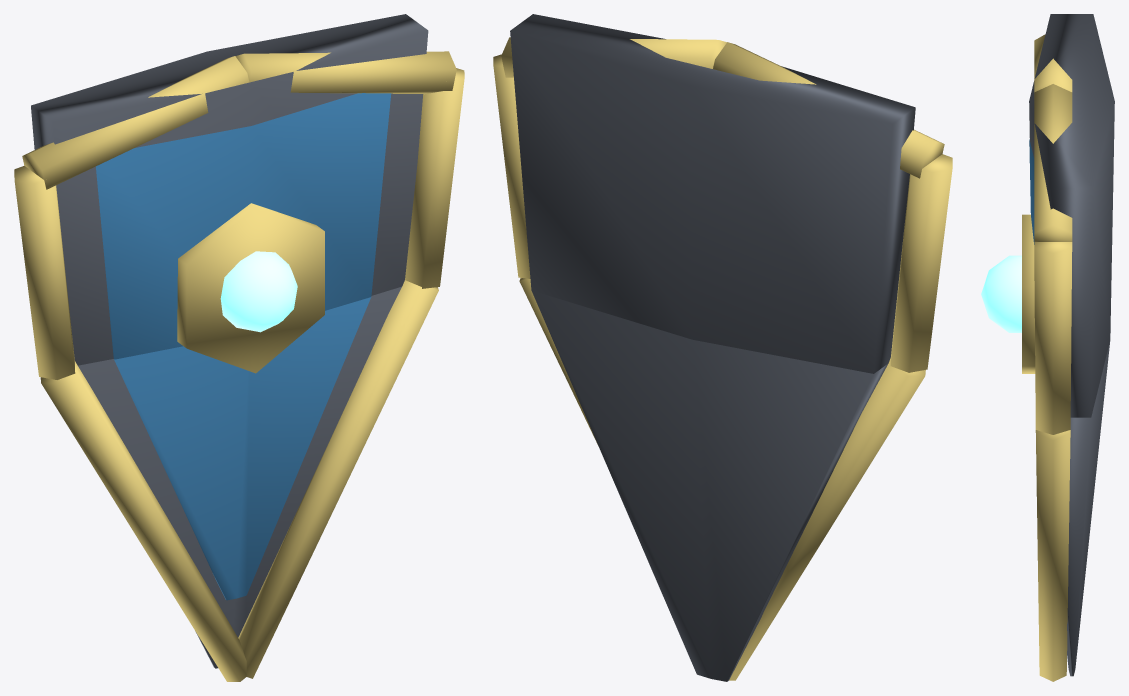
Rendered from dragon_shield.glb.
The picture shows the model from 3 angles, left to right: view 1: azimuth 30°, elevation 25°; view 2: azimuth 150°, elevation 25°; view 3: azimuth 270°, elevation 25°; orthographic projection. The views are drawn at different scales.
Parts seen in each view (by area): view 1: InnerUpper, InnerLower, ShieldUpper, Cylinder, RimBot_1, RimBot_-1, ShieldLower, RimMid_-1, RimTop_-1, RimMid_1, RimTop_1, Icosphere; view 2: ShieldUpper, ShieldLower, RimMid_-1, RimBot_-1, RimMid_1, RimTop_-1, RimTop_1, RimBot_1; view 3: ShieldUpper, RimBot_1, RimMid_1, ShieldLower, RimTop_1, Icosphere, Cylinder, RimTop_-1, InnerUpper.
Part boxes in pixels (box(x1,y1,x2,y2)): InnerUpper: box(96, 93, 391, 359); InnerLower: box(114, 297, 371, 600); ShieldUpper: box(31, 14, 428, 365); Cylinder: box(177, 203, 324, 373); RimBot_1: box(238, 280, 438, 678); RimBot_-1: box(40, 361, 246, 681); ShieldLower: box(78, 286, 401, 668); RimMid_-1: box(14, 165, 75, 379); RimTop_-1: box(22, 56, 249, 189); RimMid_1: box(405, 68, 464, 288); RimTop_1: box(235, 51, 456, 94); Icosphere: box(220, 251, 297, 332); ShieldUpper: box(510, 14, 915, 373); ShieldLower: box(531, 290, 888, 681); RimMid_-1: box(890, 154, 952, 372); RimBot_-1: box(729, 357, 925, 680); RimMid_1: box(493, 54, 530, 278); RimTop_-1: box(713, 42, 944, 178); RimTop_1: box(501, 37, 726, 77); RimBot_1: box(519, 278, 597, 444); ShieldUpper: box(1029, 14, 1114, 417); RimBot_1: box(1035, 430, 1070, 681); RimMid_1: box(1034, 242, 1072, 434); ShieldLower: box(1067, 341, 1110, 676); RimTop_1: box(1034, 84, 1072, 241); Icosphere: box(981, 255, 1021, 332); Cylinder: box(1022, 214, 1035, 373); RimTop_-1: box(1034, 34, 1072, 92); InnerUpper: box(1029, 139, 1034, 244).
Size of the model in its own units: 0.7895 by 1.05 by 0.2134.
